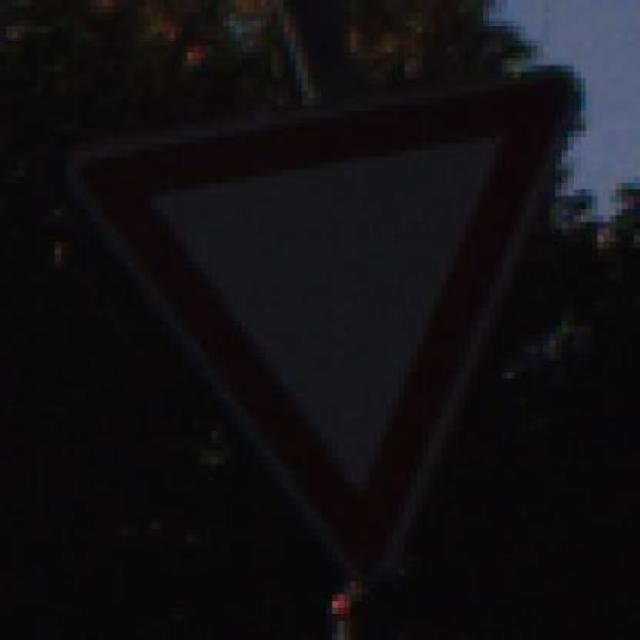Give Way: (69, 45, 625, 613)
